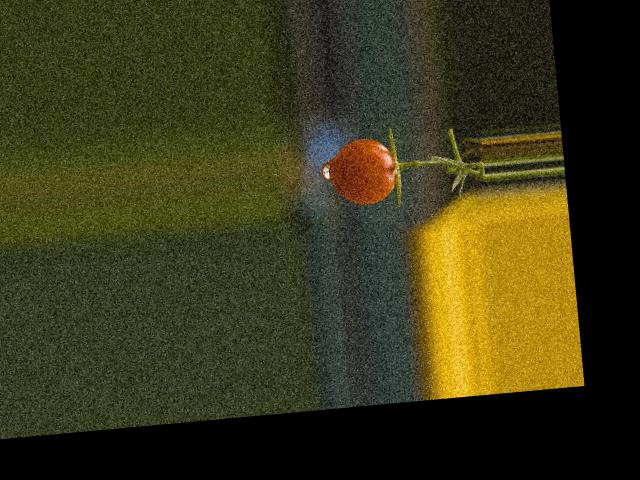tomato: (328, 135, 399, 206)
